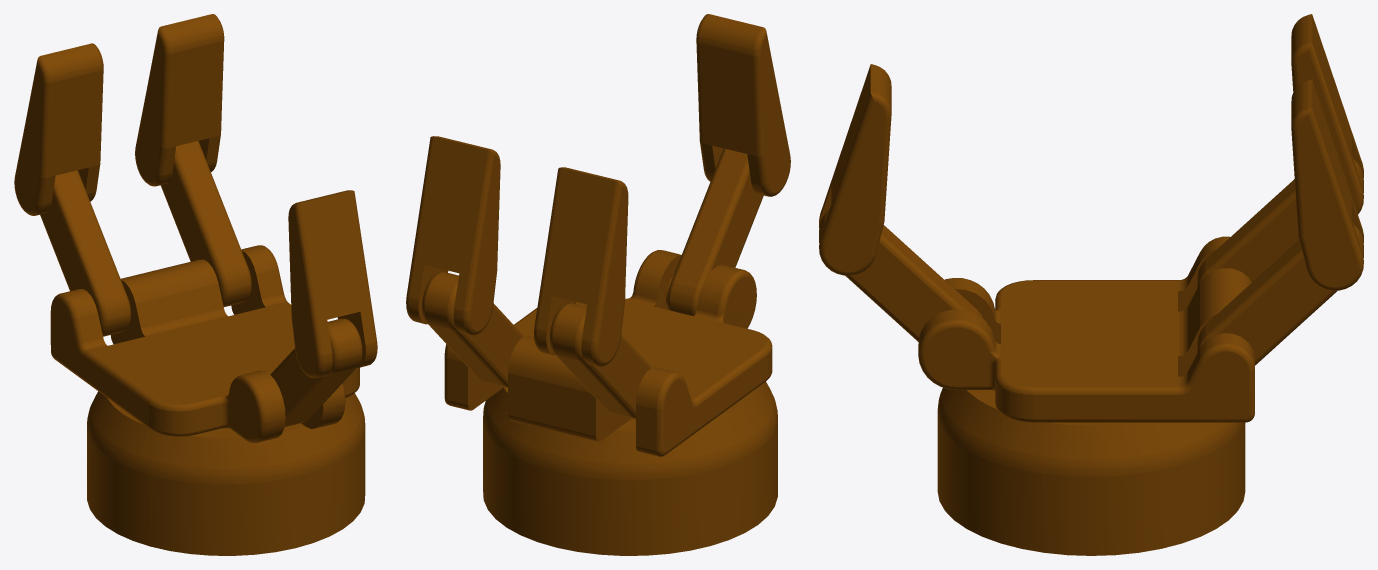
The model's file is end_effector.obj.
3 views of the same model, side by side, from view 1: azimuth 30°, elevation 25°; view 2: azimuth 150°, elevation 25°; view 3: azimuth 270°, elevation 25° (orthographic). The views are drawn at different scales.
Visible parts, largest first — view 1: mesh_1_end_e; view 2: mesh_1_end_e; view 3: mesh_1_end_e.
Boxes of the visible parts, bbox=[...] form: mesh_1_end_e: bbox=[14, 14, 377, 555]; mesh_1_end_e: bbox=[406, 14, 790, 555]; mesh_1_end_e: bbox=[819, 14, 1363, 555].
Bounding box in the file's own units: 0.08 × 0.1233 × 0.1416.
